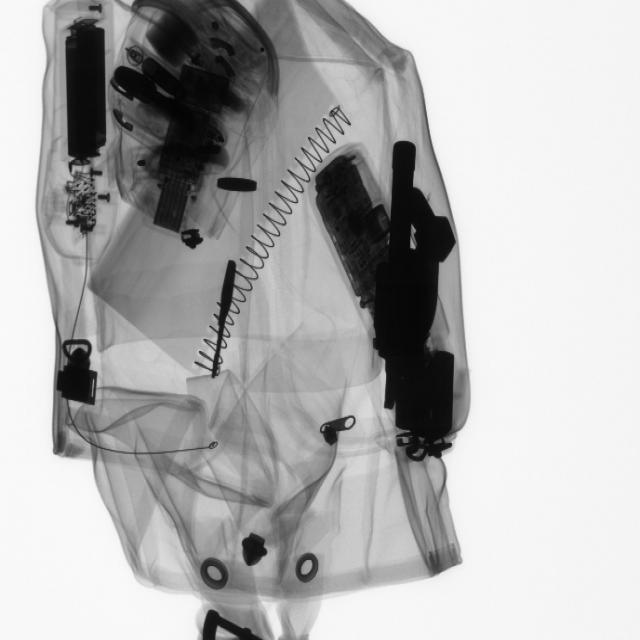GUN: (370, 130, 459, 460)
